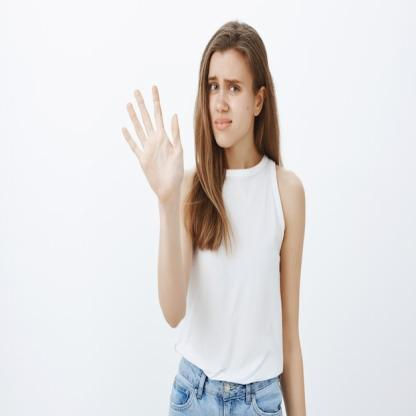stop: (118, 79, 189, 209)
